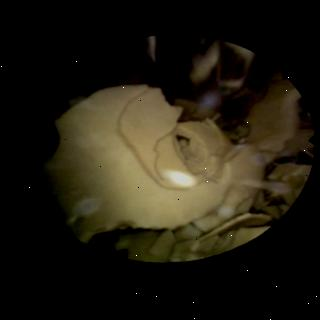stone: (25, 77, 312, 241), (109, 166, 306, 261), (187, 43, 252, 90)
